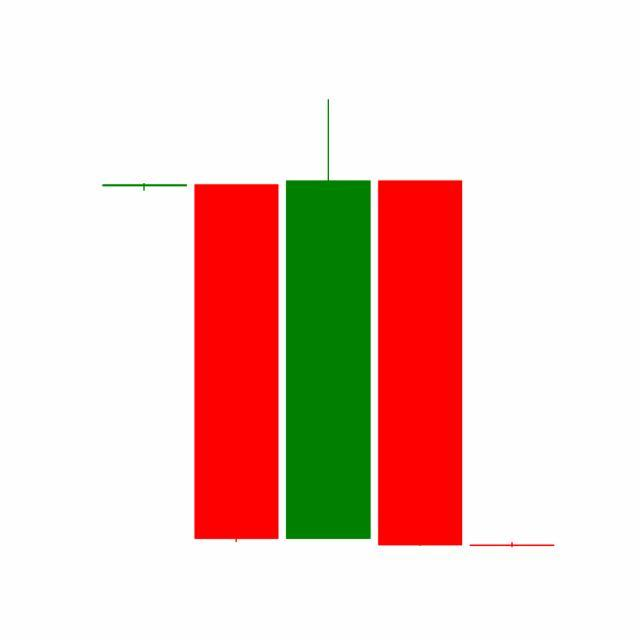Gravestone Doji: (466, 541, 559, 548)
